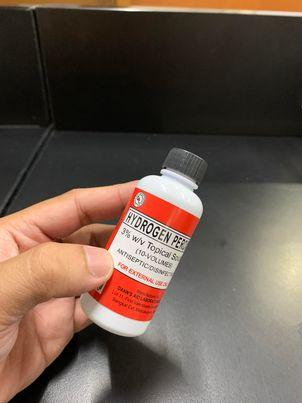-Bottle-: (80, 148, 208, 338)
